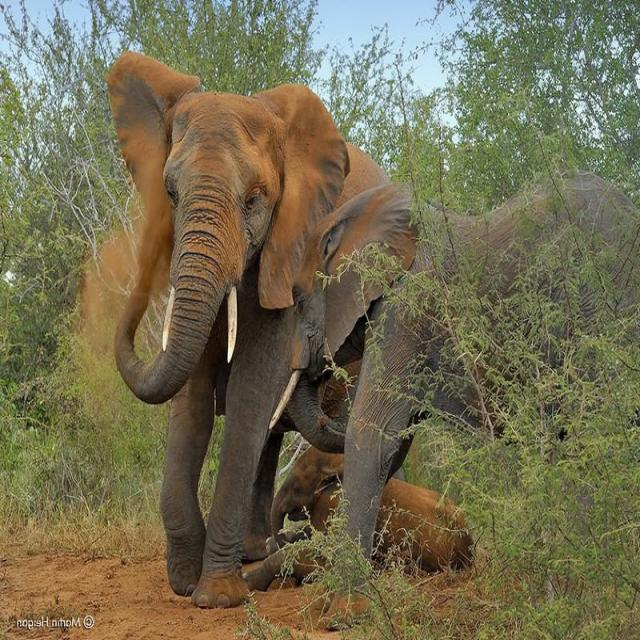elephant: (107, 51, 388, 606)
